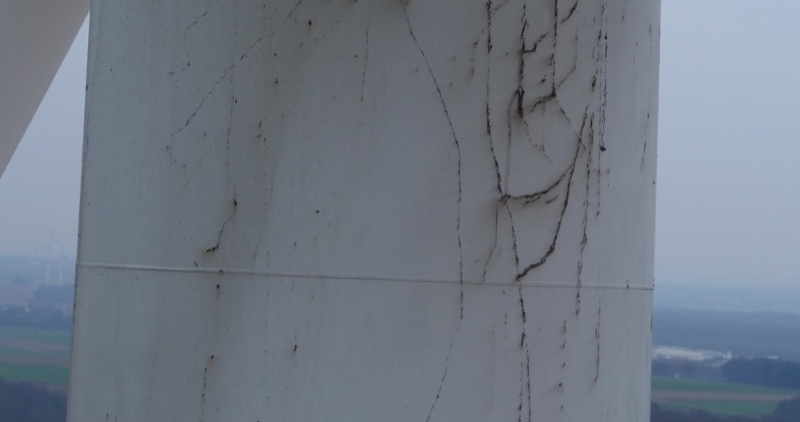weldseam: (70, 258, 656, 296)
